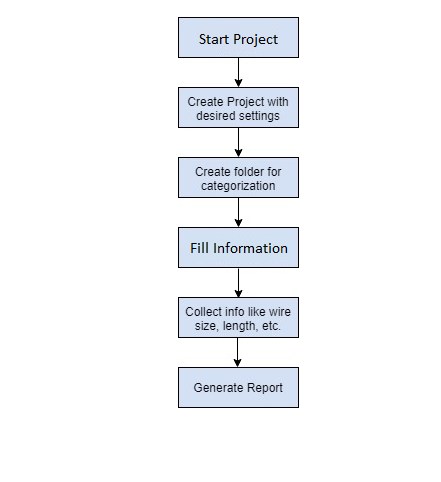arrow: (232, 127, 243, 156), (232, 268, 242, 298), (232, 339, 242, 368), (234, 198, 242, 227), (234, 59, 242, 87)
process: (174, 14, 302, 61), (176, 225, 302, 271), (175, 365, 299, 411), (175, 295, 300, 340), (176, 86, 301, 130), (175, 155, 300, 199)
text: (182, 306, 293, 332), (186, 95, 289, 122), (194, 166, 283, 192), (189, 241, 288, 257), (197, 33, 278, 49), (192, 381, 284, 395)
